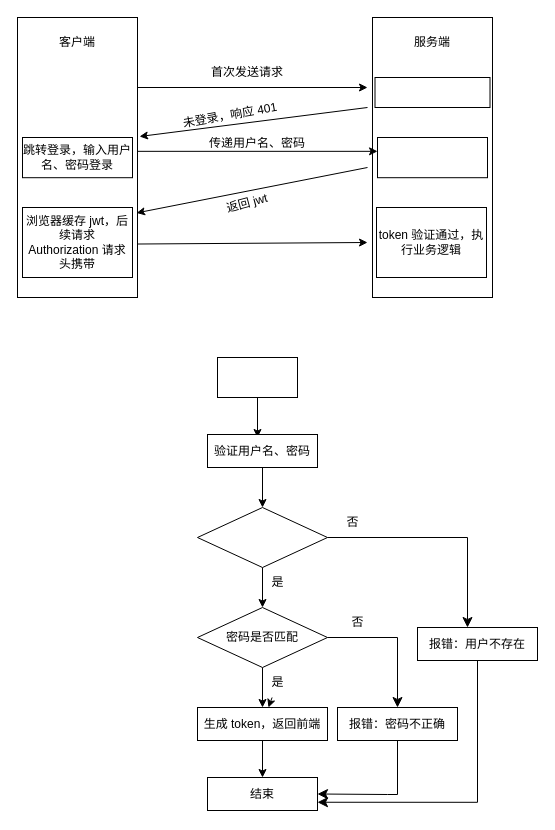
This 555x830 diagram has some shape labels left out. Each missing label, with the centre of its shape:
用户是否存在: (262,537)
登录请求: (257,377)
验证用户名、密码 生成 jwt，返回: (432,157)
验证登录状态: (432,92)
